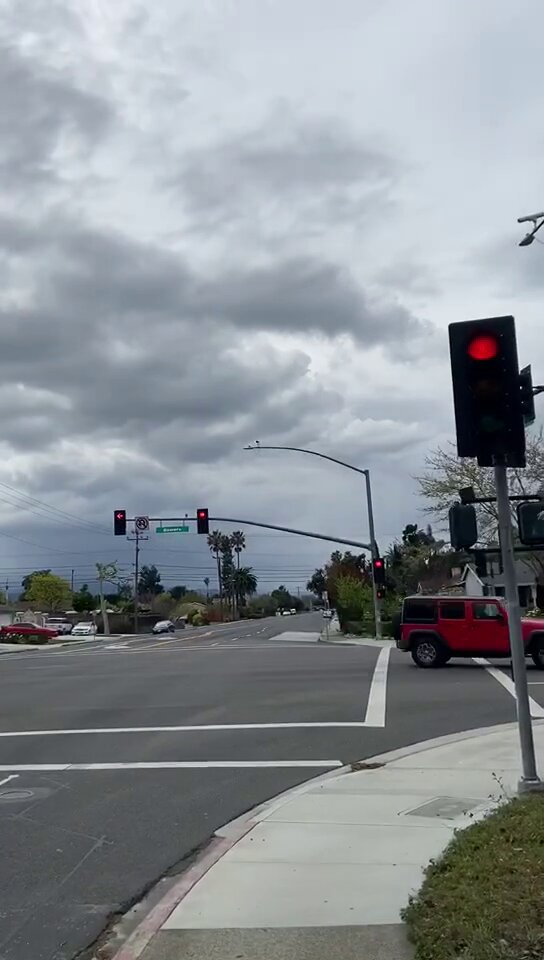red_light: (452, 320, 521, 459), (114, 508, 127, 536), (198, 507, 210, 535), (372, 558, 387, 578)
